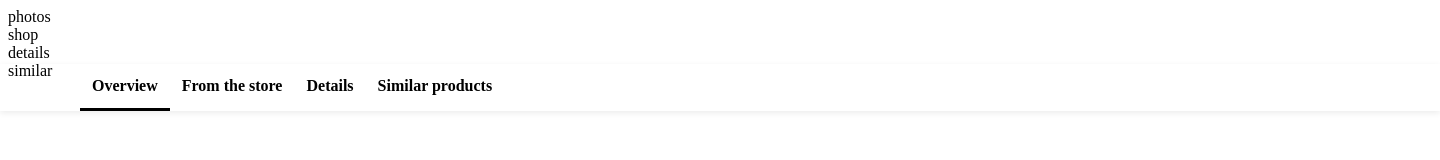
Scenario: section bar (C10) › a link takes the buyer into that section and marks it current
This screenshot has width=1440, height=160.
(page scrolled)
Click the link "From the store": (232, 86) [182,77,282,94]
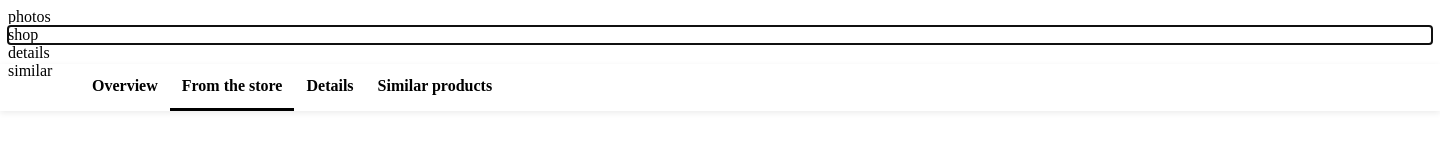
expect the link "From the store" is marked as current: met, box [170,64,294,111]
